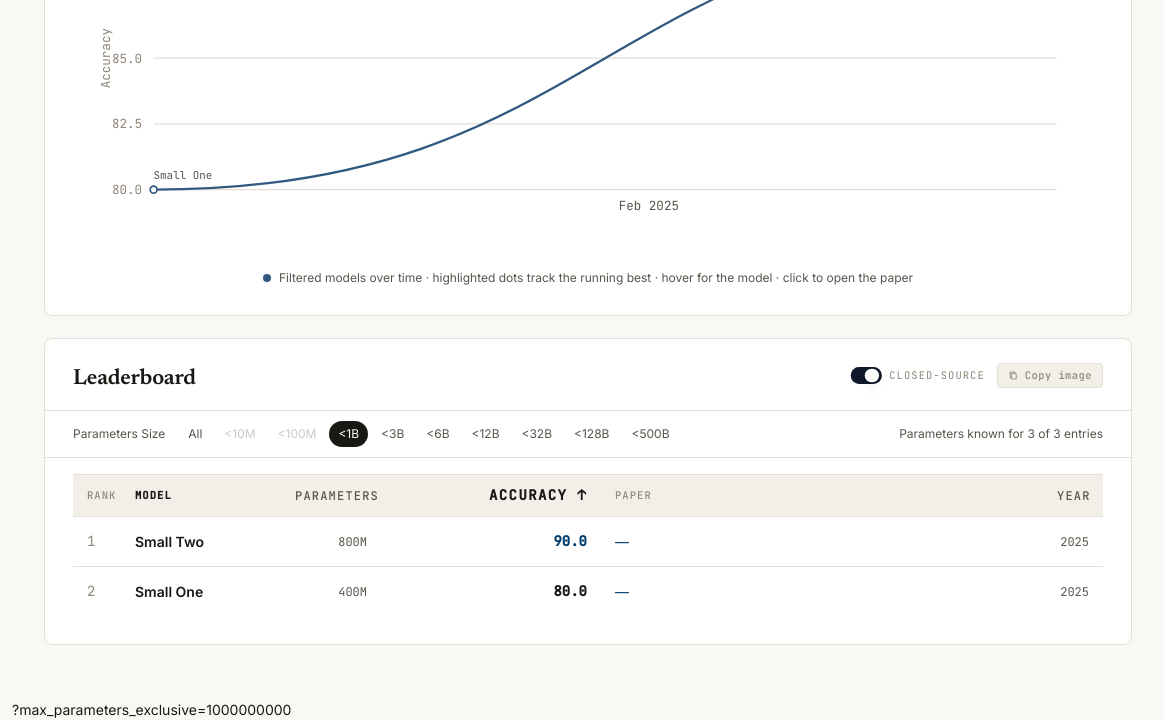
Test case: BenchmarkDetailView parameter filters › updates the table, SOTA chart, and headline best model together
(page scrolled)
Expected: the link "Small One: 80" is shown, top-left (142, 178), bottom-right (165, 201)
What coordinates should you click on to do the following:
click the button "All"
I would click on:
 (195, 434)
Its box is top-left (179, 421), bottom-right (211, 447).
(page scrolled)
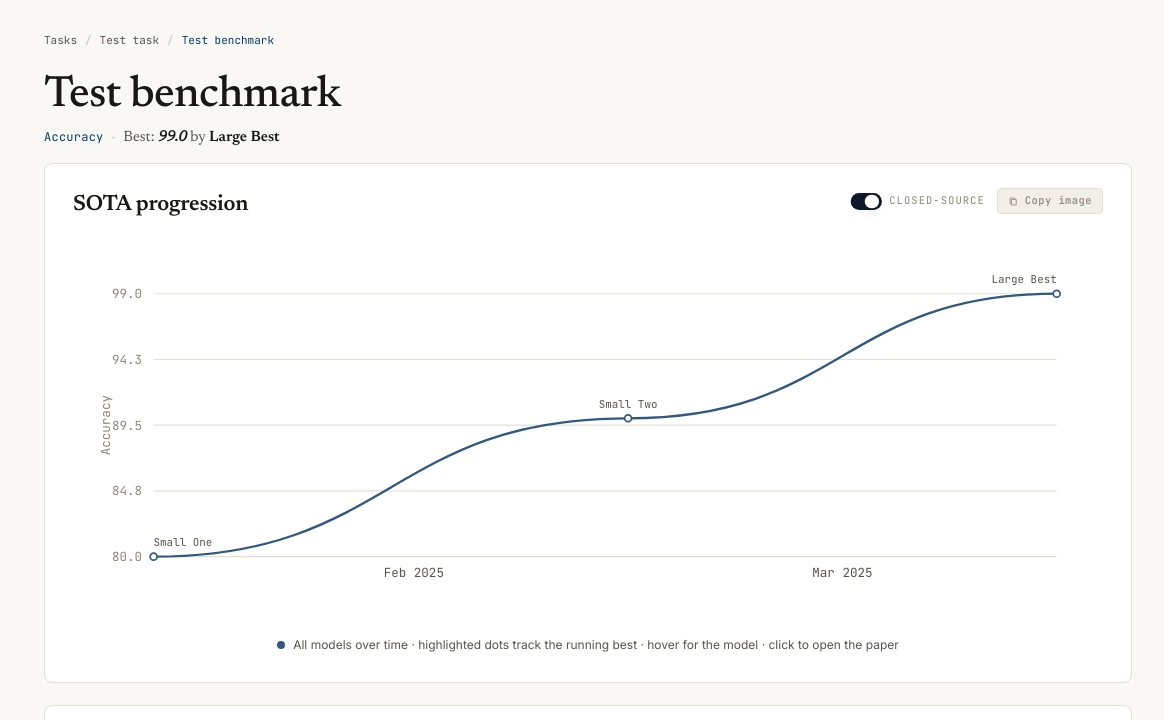
Expected: the link "Large Best: 99" is shown, top-left (1045, 282), bottom-right (1068, 305)
Now the text "Large Best" is shown, box top-left (209, 130), bottom-right (280, 145)
